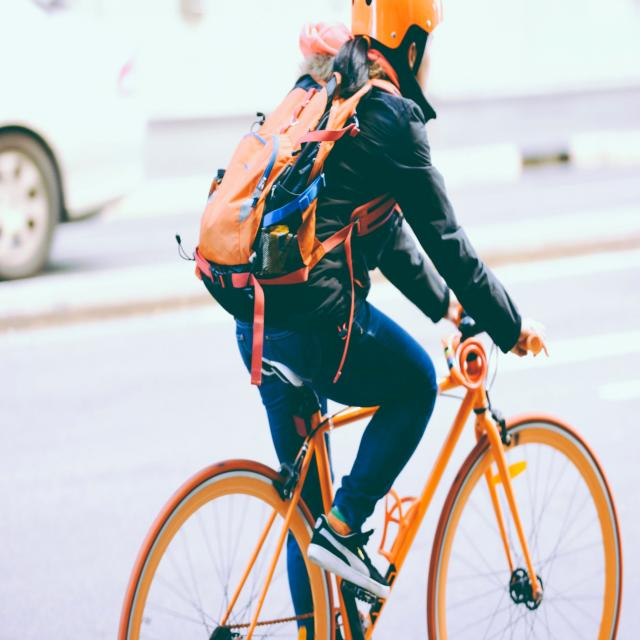adult: (197, 0, 546, 640)
